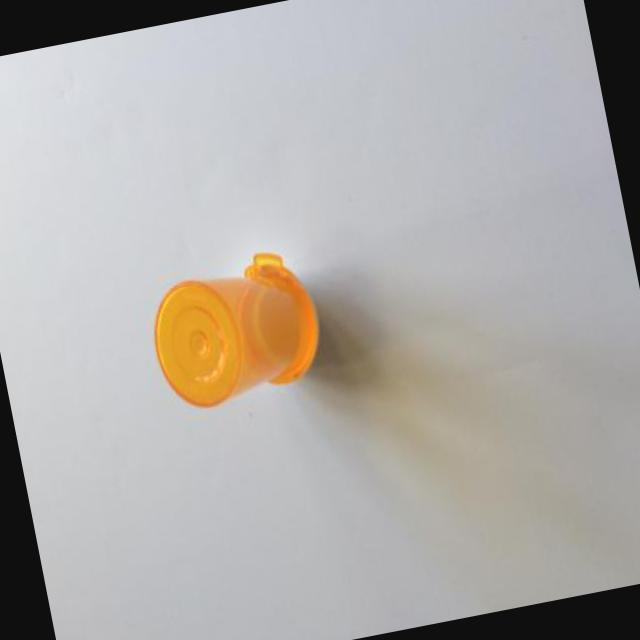Recycle: (141, 244, 331, 416)
